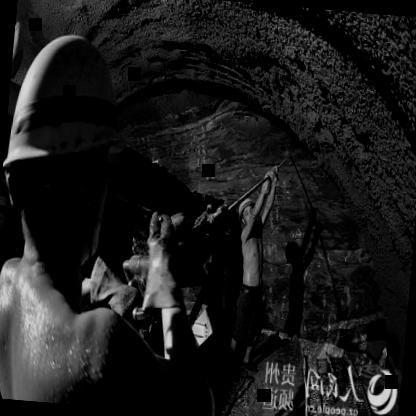helmet: (0, 16, 136, 300), (236, 192, 258, 230)
